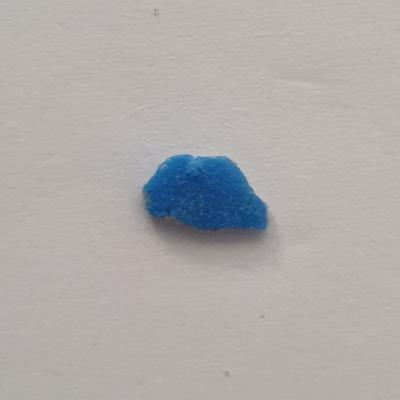plastic: (136, 149, 276, 244)
